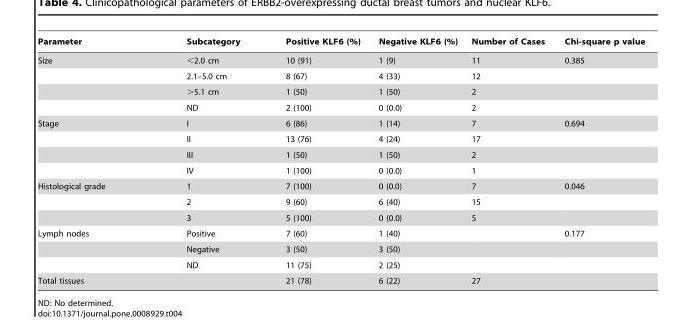table: (37, 36, 644, 284)
table column: (145, 36, 262, 284), (37, 36, 145, 284), (262, 36, 368, 284), (368, 36, 464, 284), (553, 36, 644, 284), (464, 36, 553, 284)
table column header: (37, 36, 644, 50)
table row: (37, 50, 644, 68), (37, 83, 644, 99), (37, 99, 644, 115), (37, 115, 644, 131), (37, 146, 644, 162), (37, 162, 644, 178), (37, 193, 644, 209), (37, 209, 644, 225), (37, 225, 644, 241), (37, 256, 644, 272), (37, 68, 644, 83), (37, 131, 644, 146), (37, 178, 644, 193), (37, 241, 644, 256), (37, 36, 644, 50), (37, 272, 644, 284)
table spanning cell: (37, 50, 145, 115), (37, 115, 145, 178), (37, 178, 145, 225), (37, 225, 145, 272)
